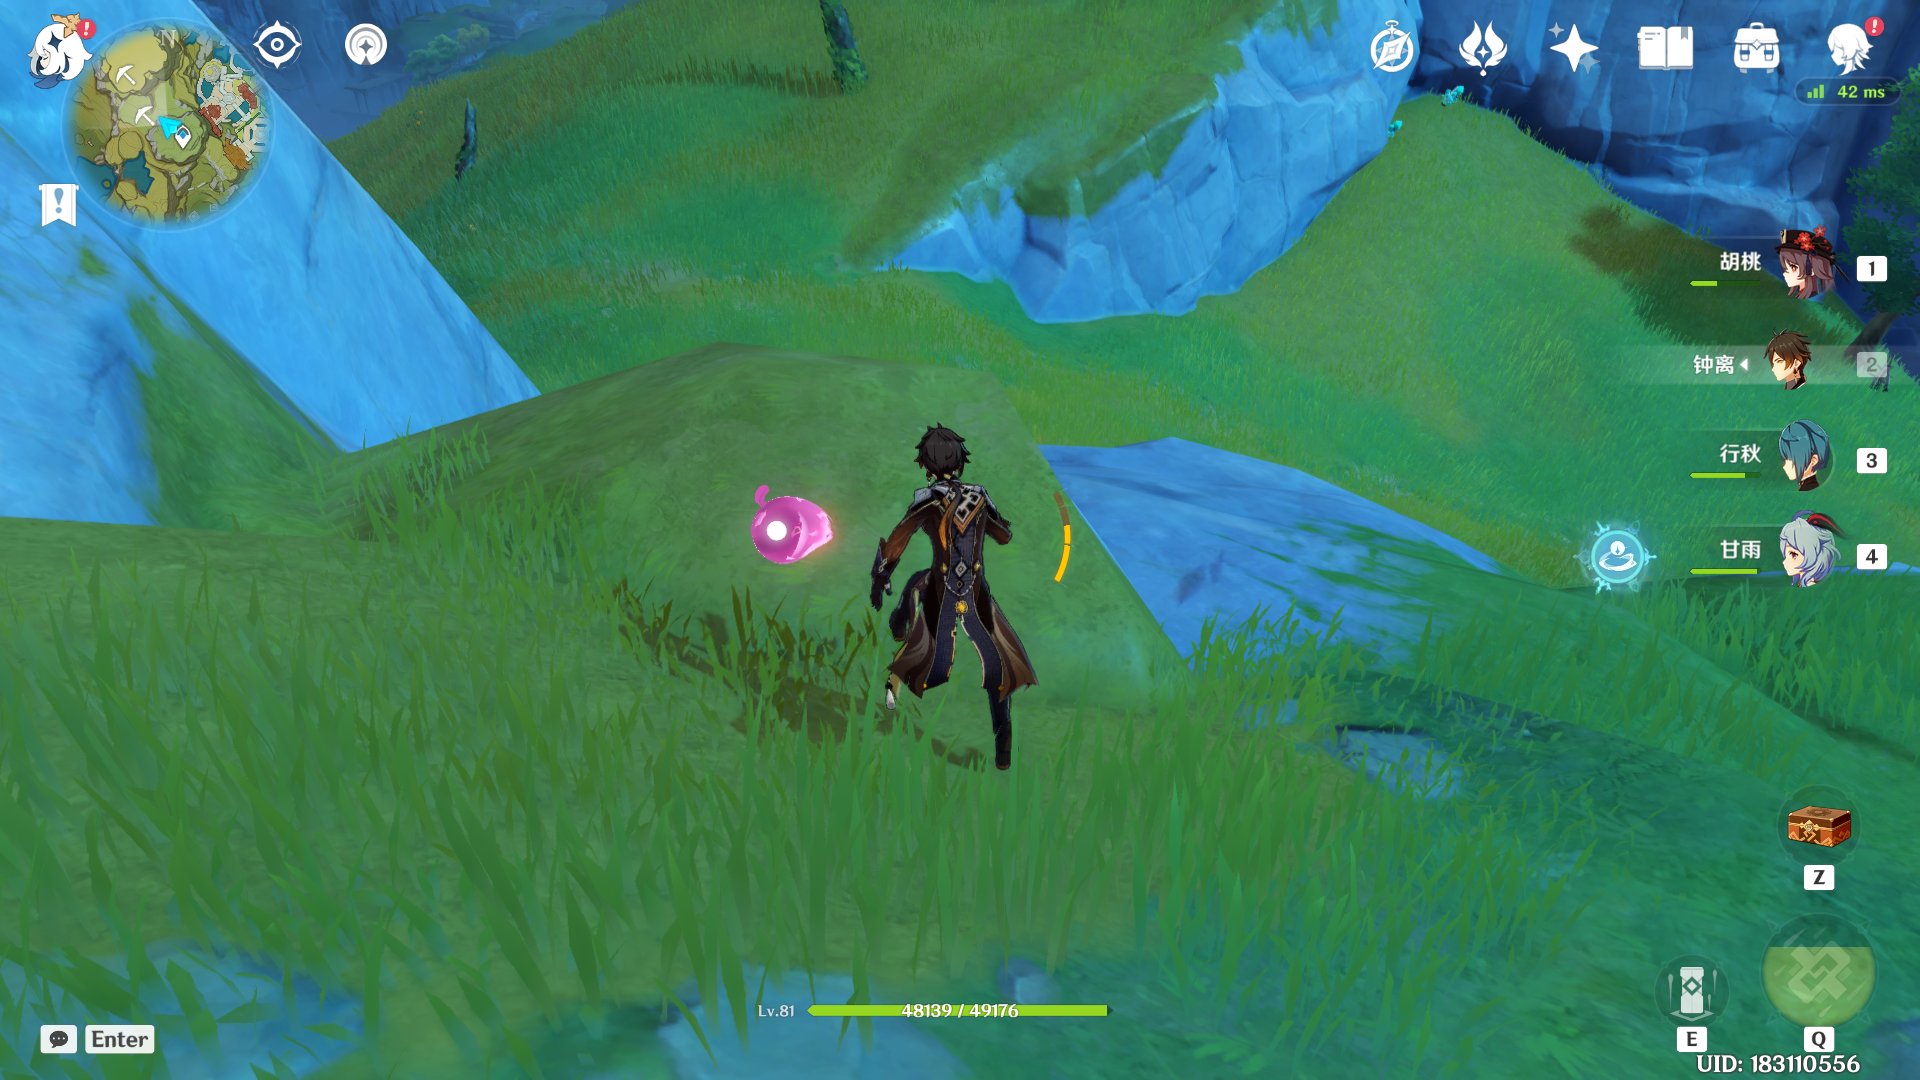character: (793, 375, 1112, 795)
